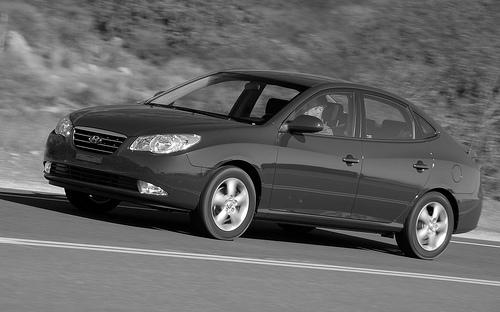car: (40, 68, 487, 263)
